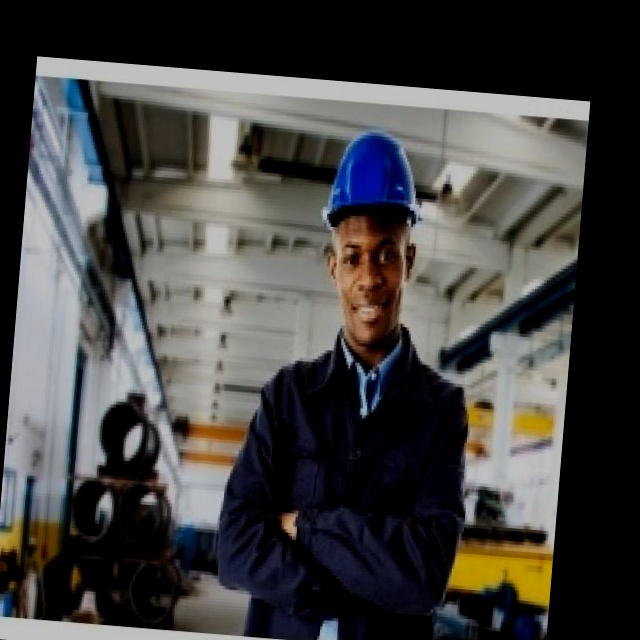Sin_Chaleco: (213, 315, 476, 640)
